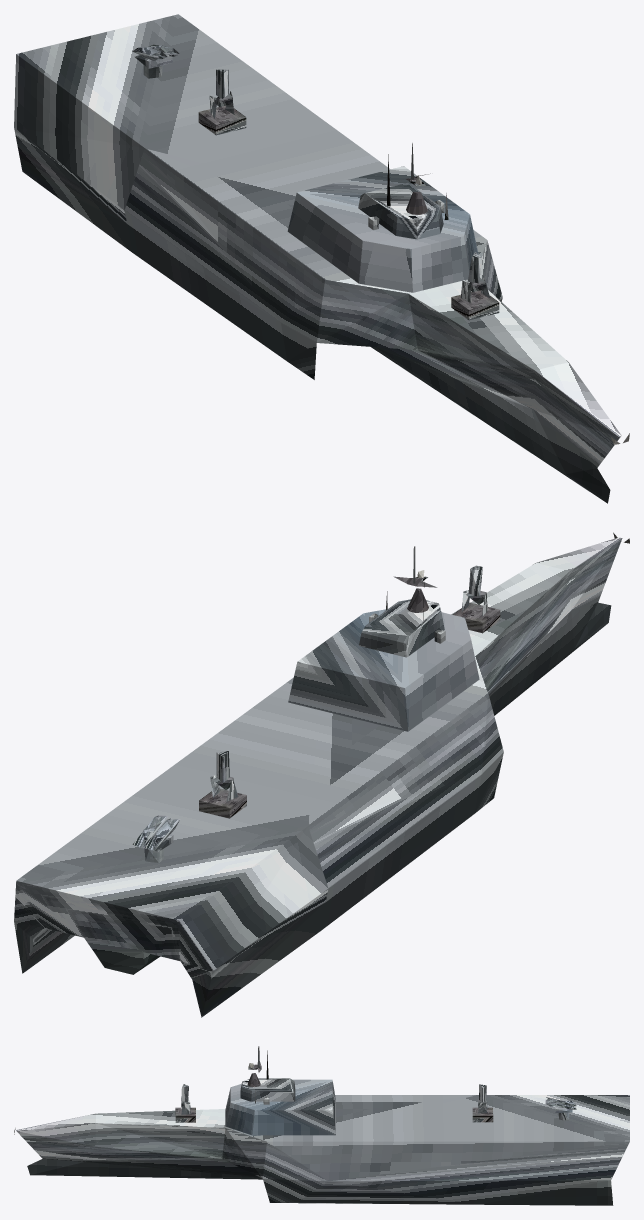
3 renders of one model, top to bottom at view 1: azimuth 30°, elevation 25°; view 2: azimuth 150°, elevation 25°; view 3: azimuth 270°, elevation 25°, orthographic. The views are drawn at different scales.
Visible parts, largest first — view 1: Object_4, Object_2; view 2: Object_4, Object_2; view 3: Object_4, Object_2.
Boxes of the visible parts, x1=… form: Object_4: x1=14, y1=14, x2=629, y2=503; Object_2: x1=132, y1=44, x2=499, y2=320; Object_4: x1=14, y1=532, x2=629, y2=1017; Object_2: x1=132, y1=565, x2=500, y2=862; Object_4: x1=14, y1=1046, x2=629, y2=1205; Object_2: x1=175, y1=1084, x2=576, y2=1122.
Size of the model in its own units: 95.04 by 102 by 424.
Materials: 1 (1 with a texture image).
